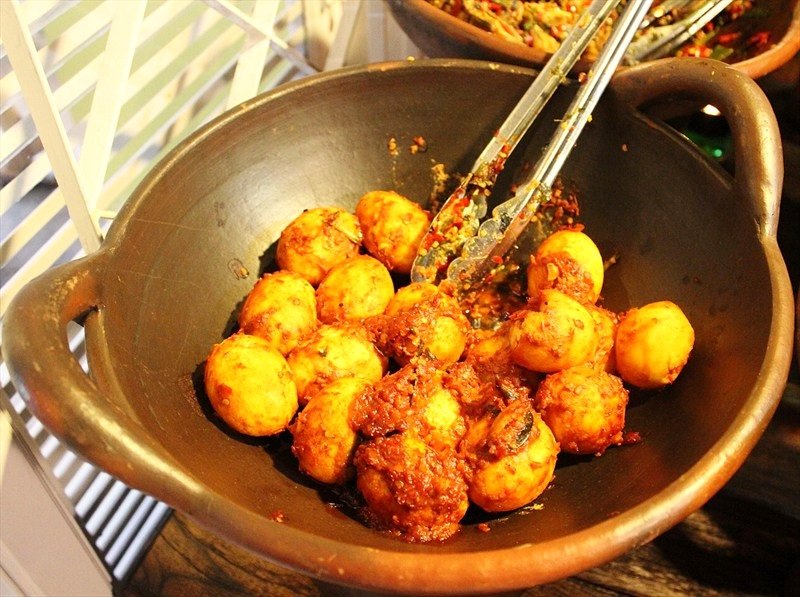Telur Balado: (112, 79, 733, 523)
